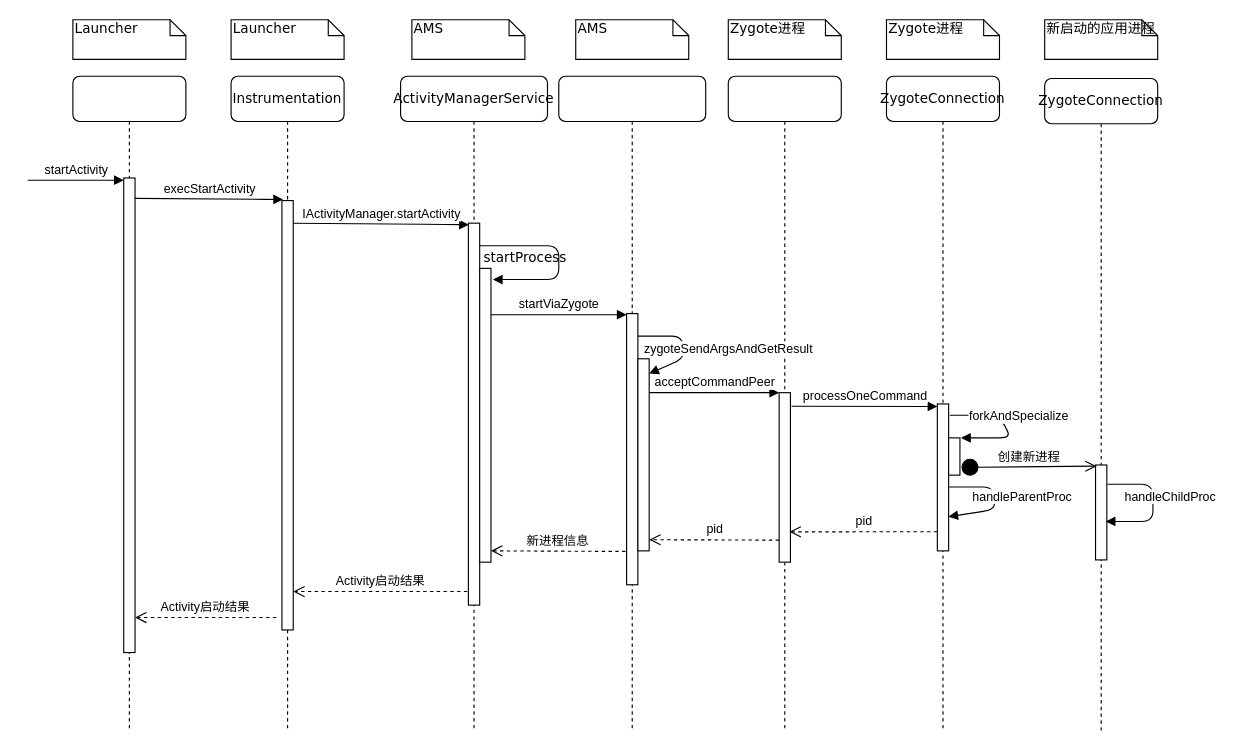
Image size: 1235x754. Some labels were removed from this diagram. Each missing label, with the box of its shape:
Activity: (72, 75, 186, 732)
ZygoteProcess: (558, 75, 706, 732)
ZygoteServer: (727, 75, 841, 732)
